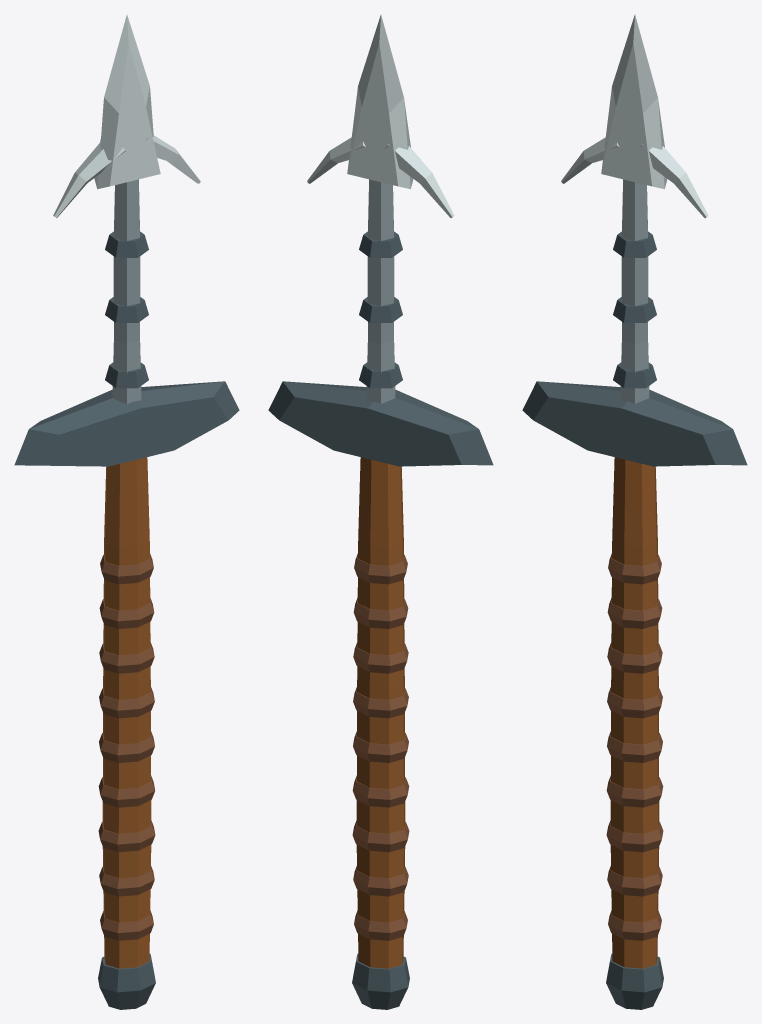
The model's file is skewer_viewmodel.glb.
3 views of the same model, side by side, from view 1: azimuth 30°, elevation 25°; view 2: azimuth 150°, elevation 25°; view 3: azimuth 330°, elevation 25° (orthographic).
Visible parts, largest first — view 1: Handle.011, Skewer_Guard.001, Skewer_Point.001, Skewer_Shank.001, Handle_Butt.011, Skewer_Barb_1.001, Grip_Wrap_3.011, Grip_Wrap_4.011, Grip_Wrap_5.011, Grip_Wrap_7.001, Grip_Wrap_6.011, Grip_Wrap_2.011 (+7 smaller); view 2: Handle.011, Skewer_Guard.001, Skewer_Point.001, Skewer_Shank.001, Handle_Butt.011, Skewer_Barb_1.001, Grip_Wrap_3.011, Grip_Wrap_4.011, Grip_Wrap_5.011, Grip_Wrap_7.001, Grip_Wrap_6.011, Grip_Wrap_2.011 (+7 smaller); view 3: Handle.011, Skewer_Guard.001, Skewer_Point.001, Skewer_Shank.001, Handle_Butt.011, Skewer_Barb_2.001, Grip_Wrap_3.011, Grip_Wrap_4.011, Grip_Wrap_5.011, Grip_Wrap_7.001, Grip_Wrap_6.011, Grip_Wrap_2.011 (+7 smaller).
Part boxes in pixels (bbox=[...]): Handle.011: bbox=[102, 457, 151, 968]; Skewer_Guard.001: bbox=[14, 381, 239, 466]; Skewer_Point.001: bbox=[94, 15, 160, 189]; Skewer_Shank.001: bbox=[112, 179, 141, 403]; Handle_Butt.011: bbox=[98, 953, 155, 1009]; Skewer_Barb_1.001: bbox=[53, 142, 125, 217]; Grip_Wrap_3.011: bbox=[98, 820, 155, 852]; Grip_Wrap_4.011: bbox=[98, 775, 155, 807]; Grip_Wrap_5.011: bbox=[99, 731, 154, 762]; Grip_Wrap_7.001: bbox=[99, 642, 154, 673]; Grip_Wrap_6.011: bbox=[99, 687, 154, 718]; Grip_Wrap_2.011: bbox=[99, 866, 154, 896]; Handle.011: bbox=[356, 457, 405, 968]; Skewer_Guard.001: bbox=[268, 381, 493, 466]; Skewer_Point.001: bbox=[347, 15, 413, 189]; Skewer_Shank.001: bbox=[366, 179, 395, 403]; Handle_Butt.011: bbox=[352, 953, 409, 1009]; Skewer_Barb_1.001: bbox=[384, 144, 454, 217]; Grip_Wrap_3.011: bbox=[352, 820, 409, 852]; Grip_Wrap_4.011: bbox=[352, 775, 409, 807]; Grip_Wrap_5.011: bbox=[353, 731, 408, 762]; Grip_Wrap_7.001: bbox=[353, 642, 408, 673]; Grip_Wrap_6.011: bbox=[353, 687, 408, 718]; Grip_Wrap_2.011: bbox=[353, 866, 408, 896]; Handle.011: bbox=[610, 457, 659, 968]; Skewer_Guard.001: bbox=[522, 381, 747, 466]; Skewer_Point.001: bbox=[601, 15, 667, 189]; Skewer_Shank.001: bbox=[620, 179, 649, 403]; Handle_Butt.011: bbox=[606, 953, 663, 1009]; Skewer_Barb_2.001: bbox=[640, 144, 708, 217]; Grip_Wrap_3.011: bbox=[606, 820, 663, 852]; Grip_Wrap_4.011: bbox=[606, 775, 663, 807]; Grip_Wrap_5.011: bbox=[607, 731, 662, 762]; Grip_Wrap_7.001: bbox=[607, 642, 662, 673]; Grip_Wrap_6.011: bbox=[607, 687, 662, 718]; Grip_Wrap_2.011: bbox=[607, 866, 662, 896].
Bounding box in the file's own units: 0.47 × 1.97 × 0.104.
